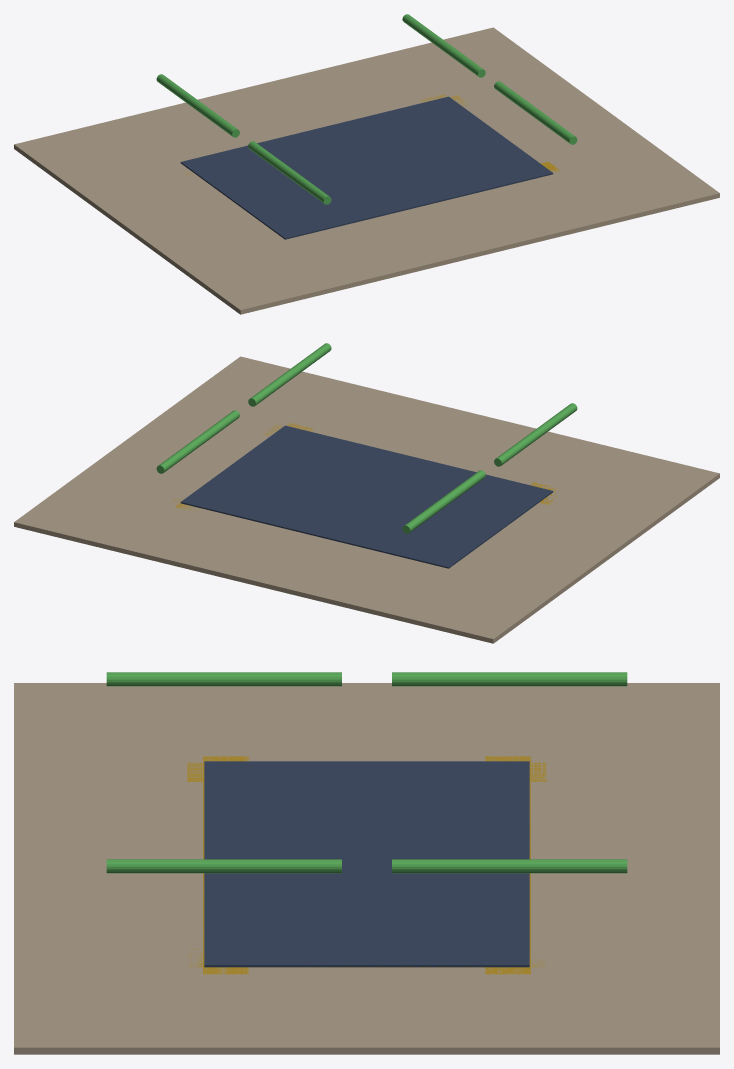
The model's file is stage_04_columns.glb.
3 renders of one model, top to bottom at view 1: azimuth 30°, elevation 25°; view 2: azimuth 150°, elevation 25°; view 3: azimuth 270°, elevation 25°, orthographic. The views are drawn at different scales.
Parts seen in each view (by area): view 1: world; view 2: world; view 3: world.
Part boxes in pixels (left/top/right/bottom): world: left=14, top=14, right=719, bottom=314; world: left=14, top=343, right=719, bottom=643; world: left=14, top=672, right=719, bottom=1054.
Size of the model in its own units: 11 by 2.19 by 9.
